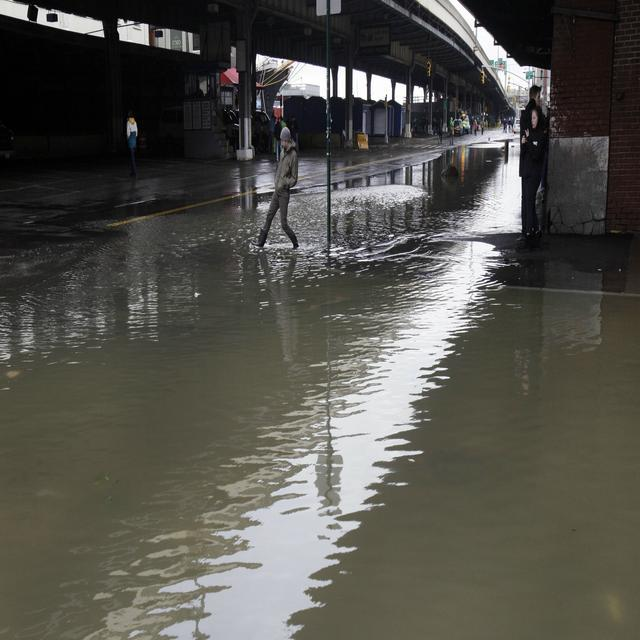Person-RiskLevel2: (502, 78, 558, 249), (255, 119, 303, 254)
